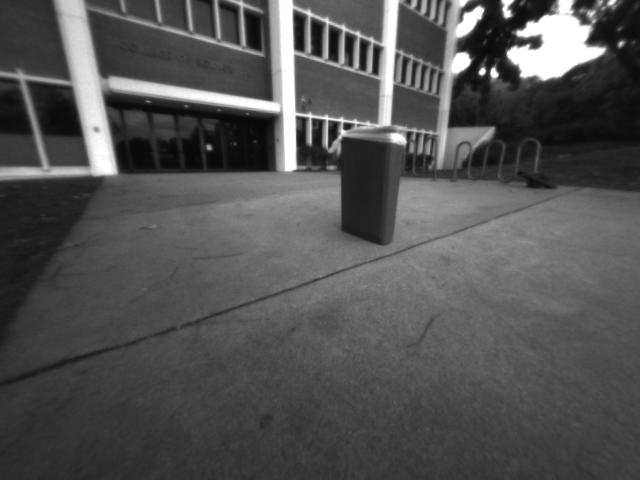trashcan_open: (337, 123, 406, 250)
